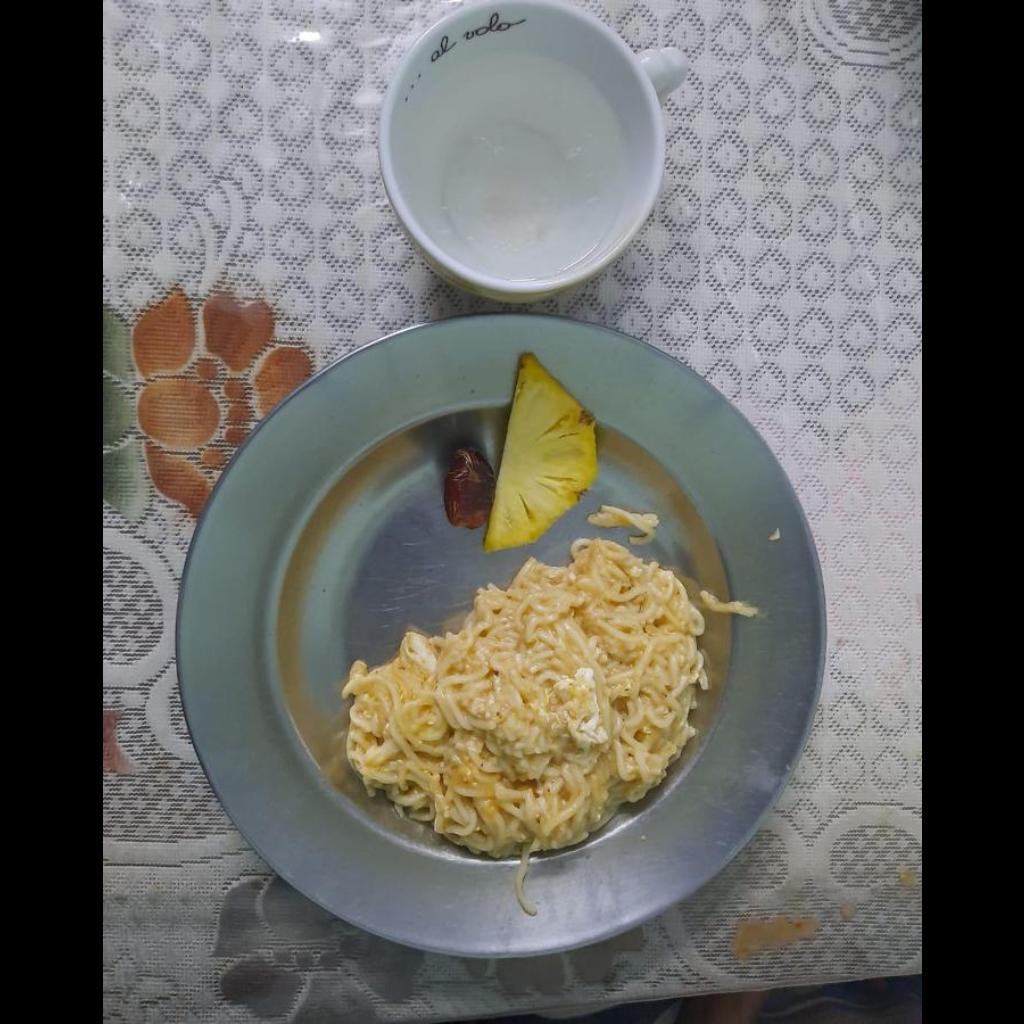dates: (442, 447, 491, 527)
juice: (403, 49, 624, 277)
noodles: (348, 535, 707, 870)
pineapple: (482, 344, 596, 551)
